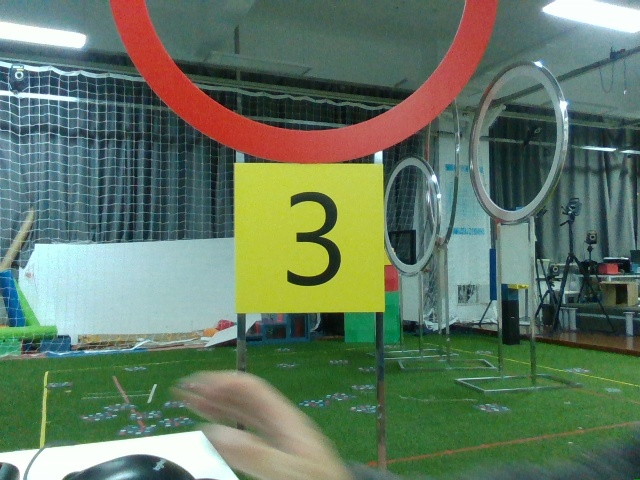target: (236, 164, 381, 309)
